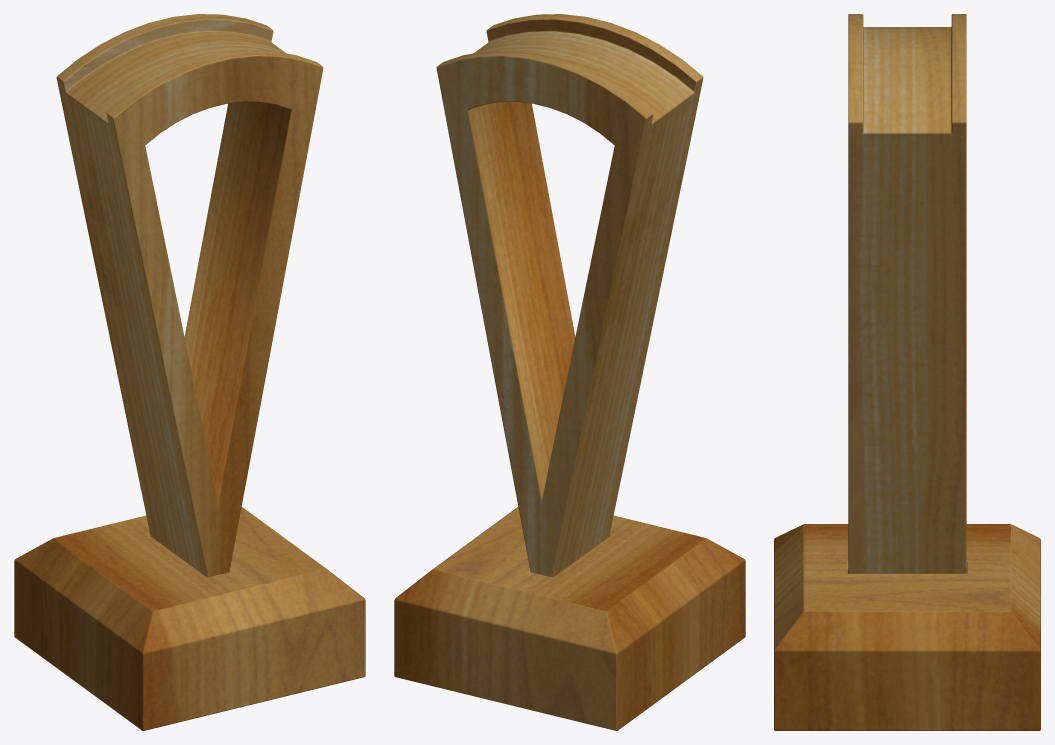
The model's file is Kopfhoererhalter.glb.
The picture shows the model from 3 angles, left to right: view 1: azimuth 30°, elevation 25°; view 2: azimuth 150°, elevation 25°; view 3: azimuth 270°, elevation 25°; orthographic projection. The views are drawn at different scales.
Visible parts, largest first — view 1: defaultobject; view 2: defaultobject; view 3: defaultobject.
Boxes of the visible parts, x1,y1,x2,y2 form: defaultobject: (14, 14, 365, 730); defaultobject: (394, 14, 745, 730); defaultobject: (774, 14, 1040, 730).
Bounding box in the file's own units: 9 × 23.76 × 9.
1 material, 1 textured.
